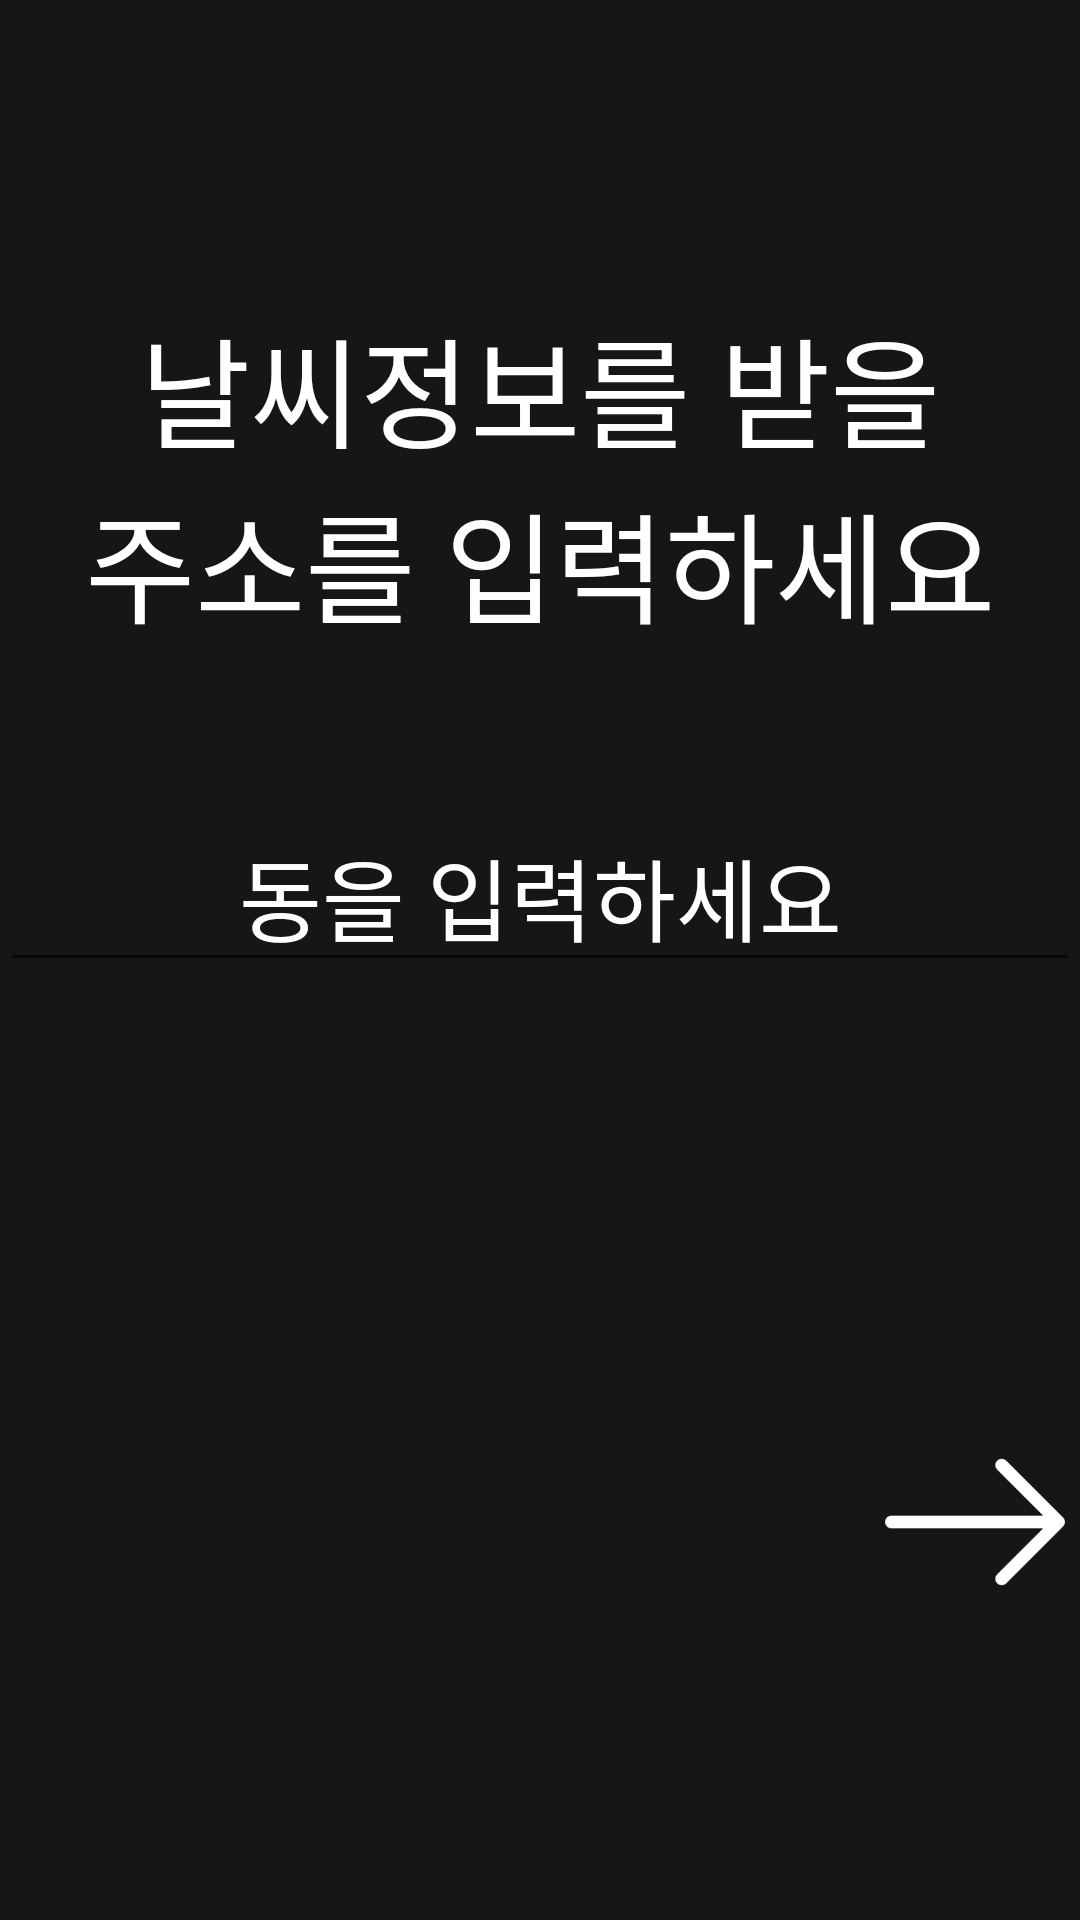

Screen size 1080 × 1920. Icon name, then its box in pixels as (x1, y1, x2, y2):
next: (885, 1458, 1065, 1586)
